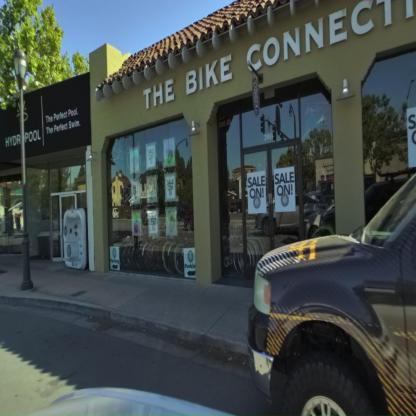car: (244, 180, 415, 415)
